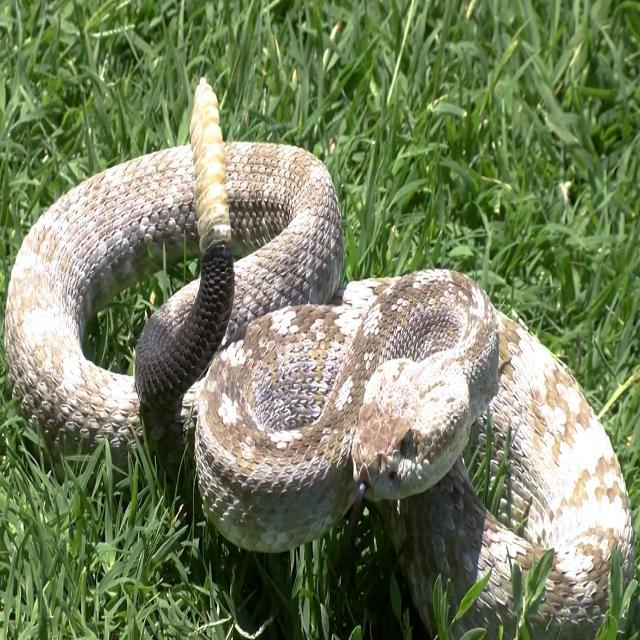Snake: (0, 61, 636, 627)
